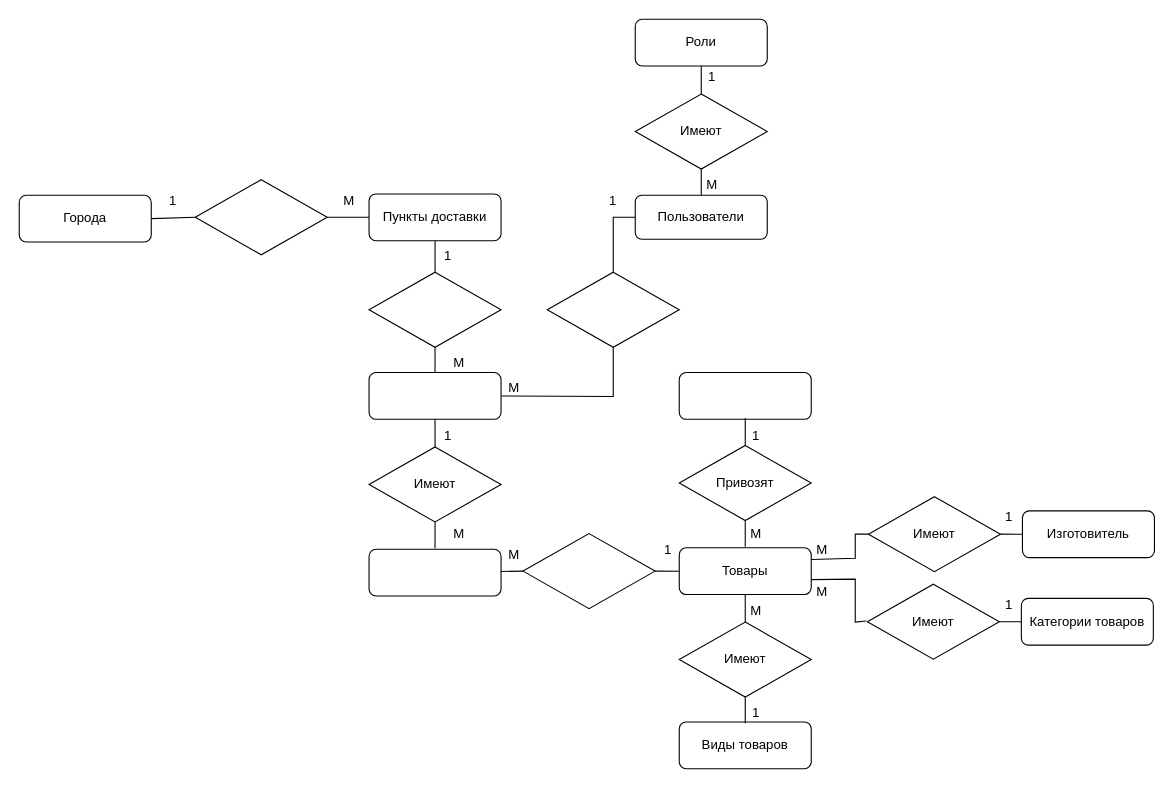
Image size: 1174x789. Some labels were removed from this diagram. Each missing label, with the box of its shape:
Включают: (194, 179, 327, 255)
Входят: (522, 533, 655, 609)
Доставляются: (368, 271, 501, 347)
Заказы: (368, 371, 501, 419)
Заказы_Товары: (368, 548, 501, 596)
Поставщики: (678, 371, 811, 419)
Создают: (546, 271, 679, 347)
